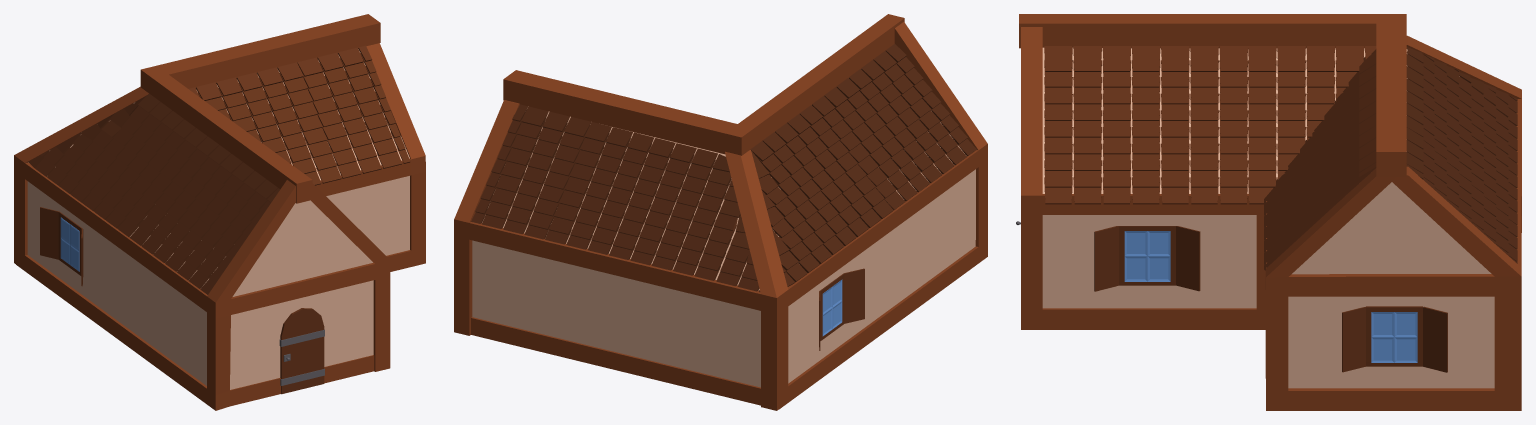
File: house3.fbx
3 views of the same model, side by side, from view 1: azimuth 30°, elevation 25°; view 2: azimuth 150°, elevation 25°; view 3: azimuth 270°, elevation 25° (orthographic). The views are drawn at different scales.
Parts seen in each view (by area): view 1: Cube.001, Cube, Cube.007, Cube.012, Circle.003, Cube.004, Cube.003, Cube.002; view 2: Cube.001, Cube, Cube.010, Cube.007, Cube.004, Cube.003; view 3: Cube.001, Cube.012, Cube, Cube.010, Cube.006, Cube.009, Cube.005, Cube.008.
Part boxes in pixels (left/top/right/bottom): Cube.001: left=14, top=14, right=425, bottom=410; Cube: left=27, top=49, right=409, bottom=389; Cube.007: left=28, top=93, right=280, bottom=294; Cube.012: left=188, top=45, right=410, bottom=185; Circle.003: left=280, top=308, right=324, bottom=394; Cube.004: left=40, top=207, right=83, bottom=286; Cube.003: left=60, top=217, right=79, bottom=271; Cube.002: left=279, top=329, right=324, bottom=385; Cube.001: left=454, top=14, right=987, bottom=410; Cube: left=472, top=106, right=975, bottom=387; Cube.010: left=471, top=104, right=760, bottom=292; Cube.007: left=750, top=44, right=976, bottom=286; Cube.004: left=819, top=268, right=864, bottom=350; Cube.003: left=822, top=279, right=842, bottom=336; Cube.001: left=1019, top=14, right=1521, bottom=410; Cube.012: left=1044, top=46, right=1376, bottom=270; Cube: left=1042, top=47, right=1494, bottom=388; Cube.010: left=1406, top=47, right=1517, bottom=263; Cube.006: left=1094, top=226, right=1200, bottom=291; Cube.009: left=1342, top=306, right=1447, bottom=372; Cube.005: left=1124, top=231, right=1170, bottom=281; Cube.008: left=1371, top=312, right=1417, bottom=362.
Size of the model in its own units: 1532 by 937 by 1662.
